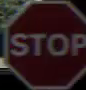Stop: (4, 8, 83, 75)
